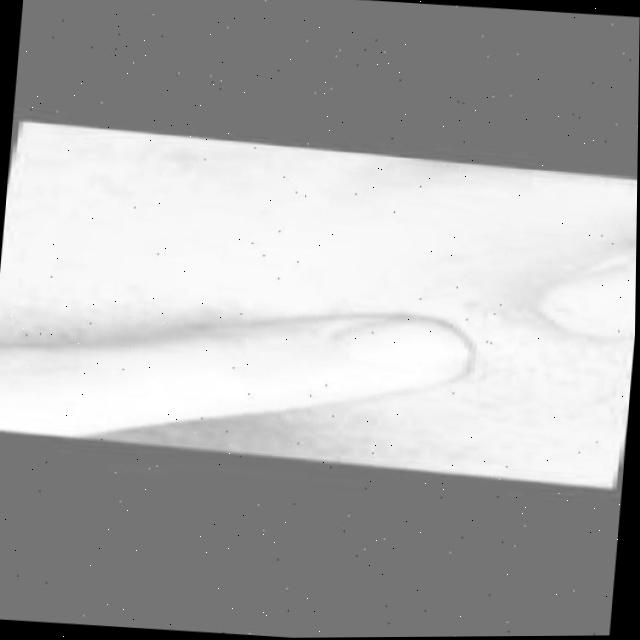Acne: (447, 281, 528, 349)
